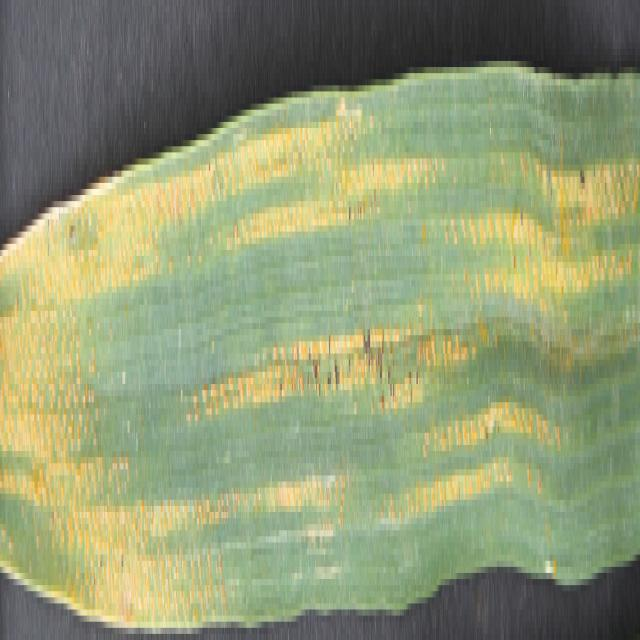leaf rust: (1, 61, 638, 640)
